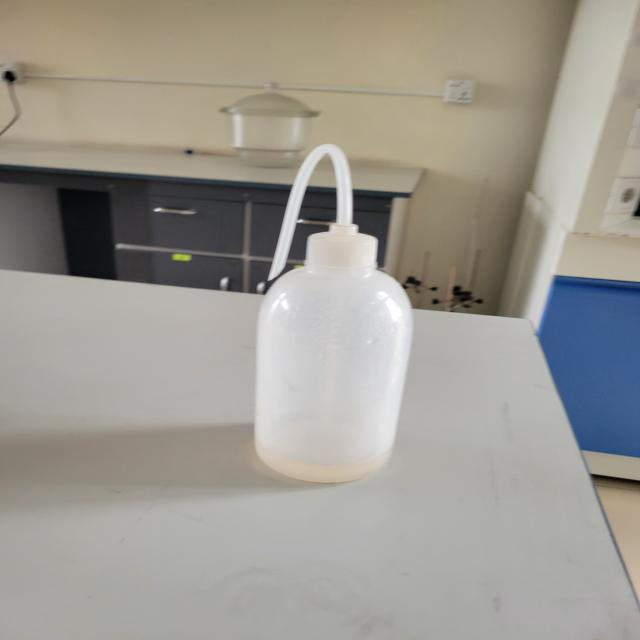Wash_Bottle: (151, 105, 460, 501)
